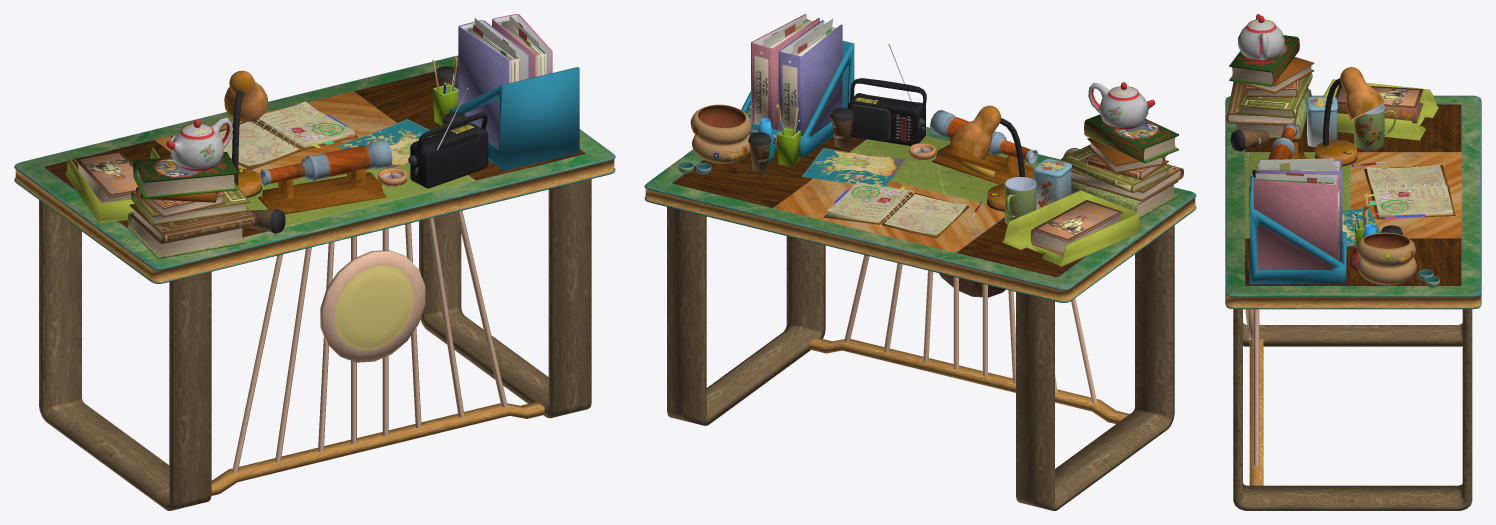
File: explorer-room.glb
The picture shows the model from 3 angles, left to right: view 1: azimuth 30°, elevation 25°; view 2: azimuth 150°, elevation 25°; view 3: azimuth 270°, elevation 25°; orthographic projection. The views are drawn at different scales.
Parts seen in each view (by area): view 1: TableSet.Test; view 2: TableSet.Test; view 3: TableSet.Test.
Boxes of the visible parts, x1,y1,x2,y2 form: TableSet.Test: [14, 14, 615, 510]; TableSet.Test: [644, 14, 1196, 510]; TableSet.Test: [1225, 14, 1481, 510].
Bounding box in the file's own units: 2 × 1.55 × 1.08.
1 material, 1 textured.
